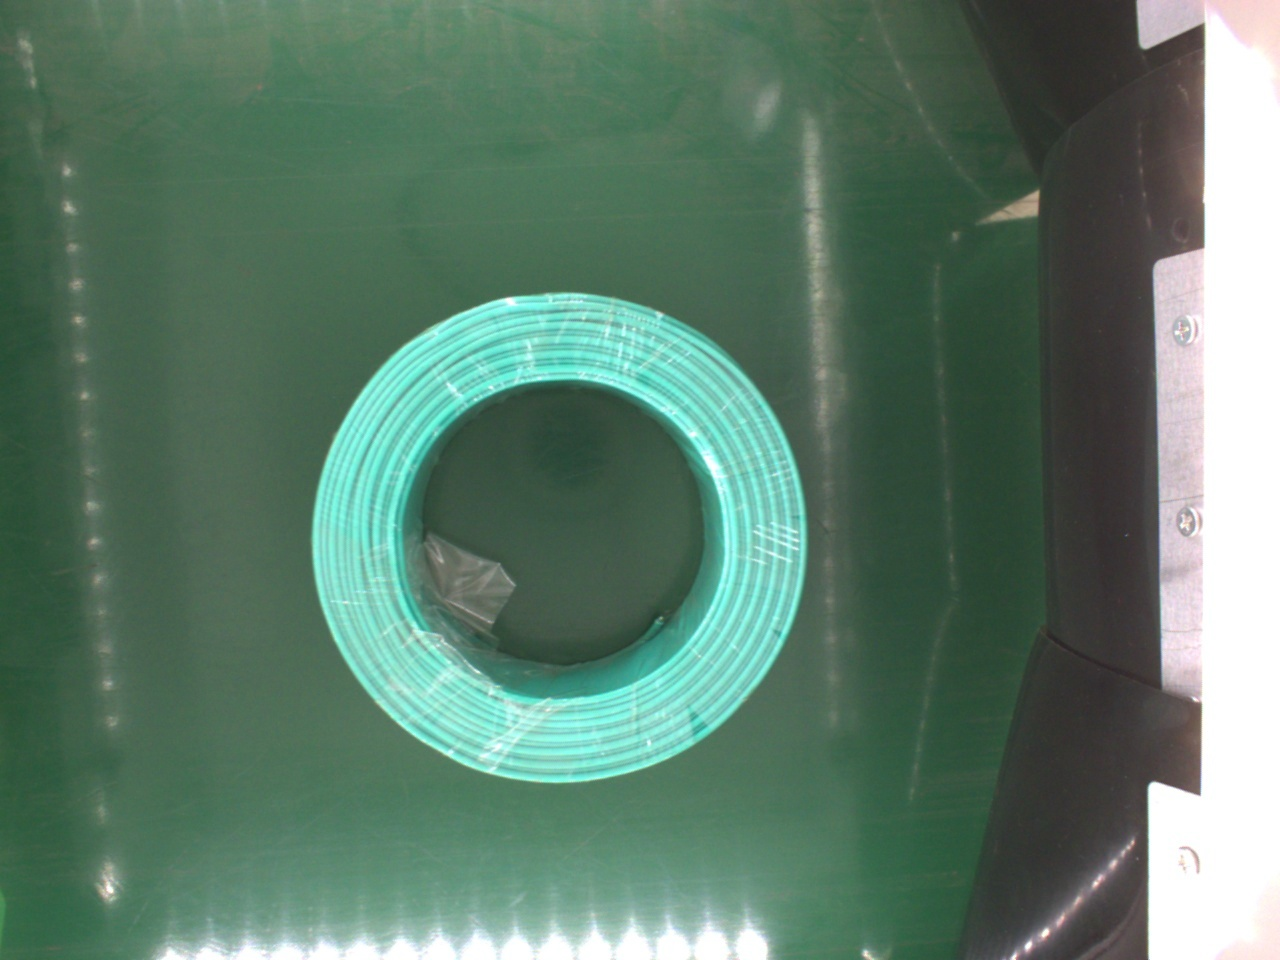green: (316, 291, 808, 779)
